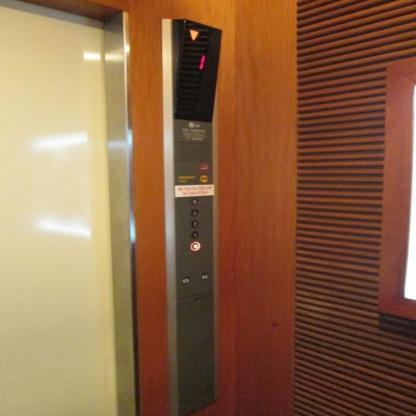1: (190, 230, 199, 240)
2: (190, 219, 198, 228)
3: (190, 208, 199, 216)
5: (189, 197, 198, 205)
blur: (197, 161, 209, 171), (189, 241, 201, 251)
call: (199, 173, 208, 182)
close: (199, 272, 208, 281)
led: (171, 18, 222, 123)
open: (180, 276, 190, 284)
